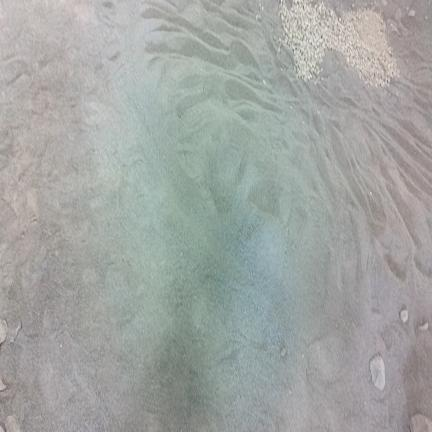Rock: (370, 355, 385, 391), (411, 414, 431, 431), (9, 321, 21, 342), (5, 415, 20, 431), (0, 320, 7, 344), (400, 309, 408, 323), (394, 8, 402, 22), (419, 322, 428, 331), (0, 378, 6, 391), (408, 9, 415, 17), (281, 348, 286, 356)
